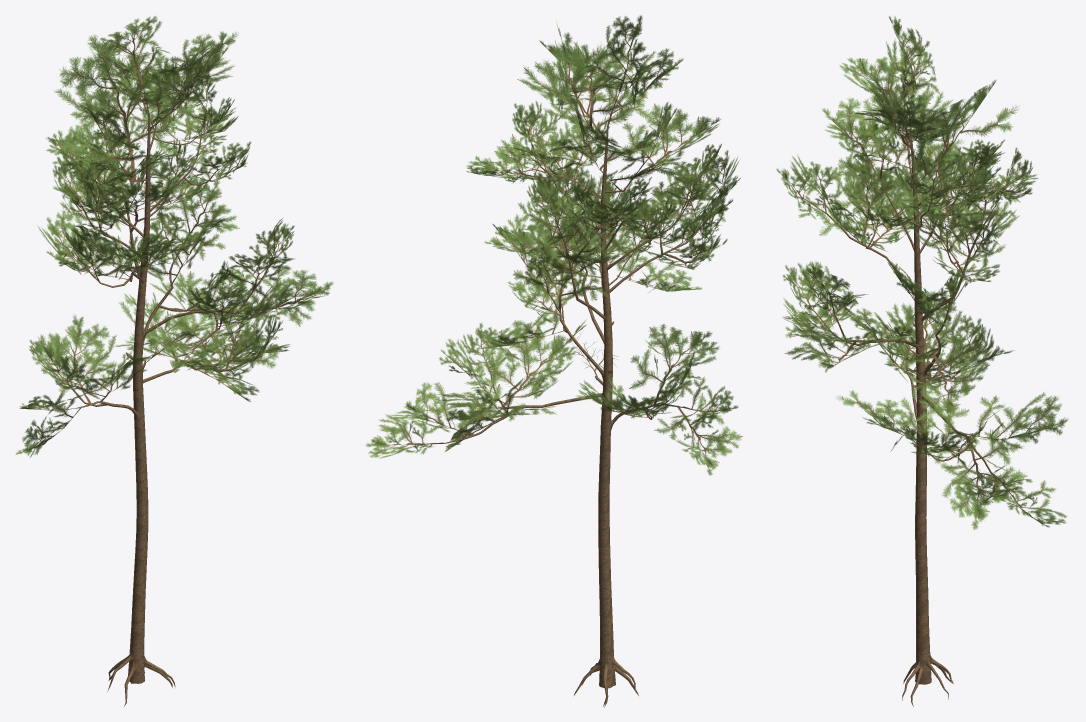
Rendered from pine-medium-1-lod-set.glb.
3 renders of one model, left to right at view 1: azimuth 30°, elevation 25°; view 2: azimuth 150°, elevation 25°; view 3: azimuth 270°, elevation 25°, orthographic. The views are drawn at different scales.
Visible parts, largest first — view 1: Pine_medium_1_LOD0; view 2: Pine_medium_1_LOD0; view 3: Pine_medium_1_LOD0.
Part boxes in pixels (bbox=[...]): Pine_medium_1_LOD0: bbox=[16, 16, 333, 706]; Pine_medium_1_LOD0: bbox=[366, 15, 742, 707]; Pine_medium_1_LOD0: bbox=[776, 16, 1068, 706].
Size of what is drawn, in the model's own units: 5.71 by 12 by 4.8.
Materials: 2 (2 with a texture image).
